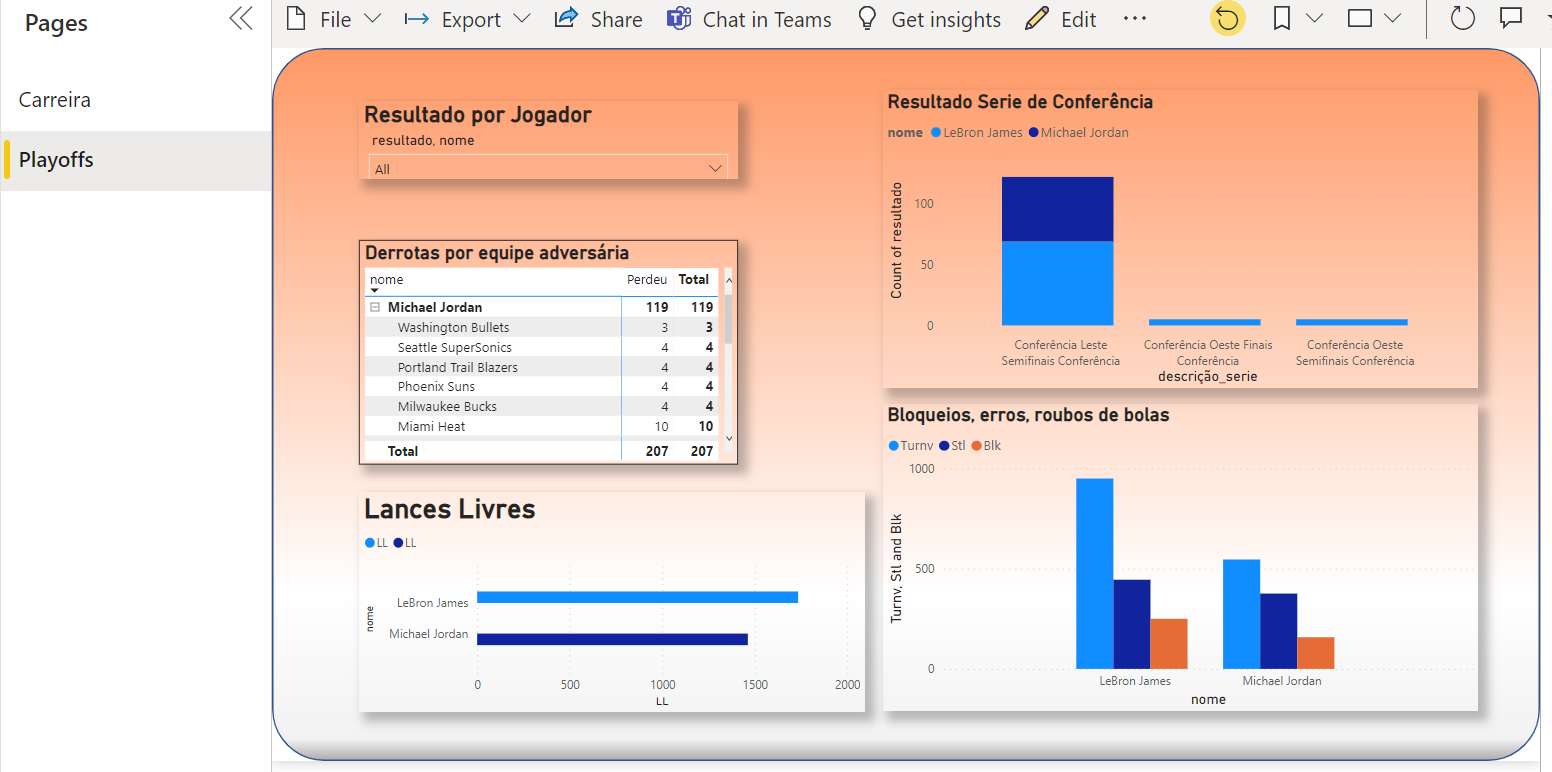

The dashboard page shown, as its layout file describes it:
{"tool":"powerbi","page":{"name":"Playoffs","canvas":[1280,720],"ordinal":1},"visuals":[{"type":"slicer","title":"Resultado por Jogador","fields":{"Values":["Append_Playoffs_Mj_Lj.resultado","Jogadores.nome"]},"box":[87.5,53.1,382.6,79.7],"z":0},{"type":"clusteredColumnChart","title":"Bloqueios, erros, roubos de bolas","fields":{"Category":["Jogadores.nome"],"Y":["Append_Playoffs_Mj_Lj.Turnv","Append_Playoffs_Mj_Lj.Stl","Append_Playoffs_Mj_Lj.Blk"]},"box":[616.9,359.2,601.3,310.8],"z":1000},{"type":"clusteredBarChart","title":"Lances Livres","fields":{"Y":["Playoffs_LeBron James.LL","Playoffs_Michael Jordan.LL"],"Category":["Jogadores.nome"]},"box":[87.5,448.2,510.7,221.8],"z":2000},{"type":"columnChart","title":"Resultado Serie de Conferência","fields":{"Category":["Append_Playoffs_Mj_Lj.descrição_serie"],"Y":["Append_Playoffs_Mj_Lj.resultado"],"Series":["Jogadores.nome"]},"box":[616.9,42.2,601.3,301.4],"z":3000},{"type":"pivotTable","title":"Derrotas por equipe adversária","fields":{"Rows":["Jogadores.nome","adversarios.Descricao_Equipe"],"Columns":["Append_Playoffs_Mj_Lj.resultado"],"Values":["Append_Playoffs_Mj_Lj.resultado"]},"box":[87.5,193.7,382.6,226.5],"z":4000}]}

Visuals, with their boxes on the page's 1280x720 design canvas (x1, y1, x2, y2). These are canvas units, not pixel positions in the 1552x772 screenshot, which may show the page scaled, cropped or inside an application window:
"Resultado por Jogador" slicer: detection(88, 53, 470, 133)
"Bloqueios, erros, roubos de bolas" clusteredColumnChart: detection(617, 359, 1218, 670)
"Lances Livres" clusteredBarChart: detection(88, 448, 598, 670)
"Resultado Serie de Conferência" columnChart: detection(617, 42, 1218, 344)
"Derrotas por equipe adversária" pivotTable: detection(88, 194, 470, 420)
